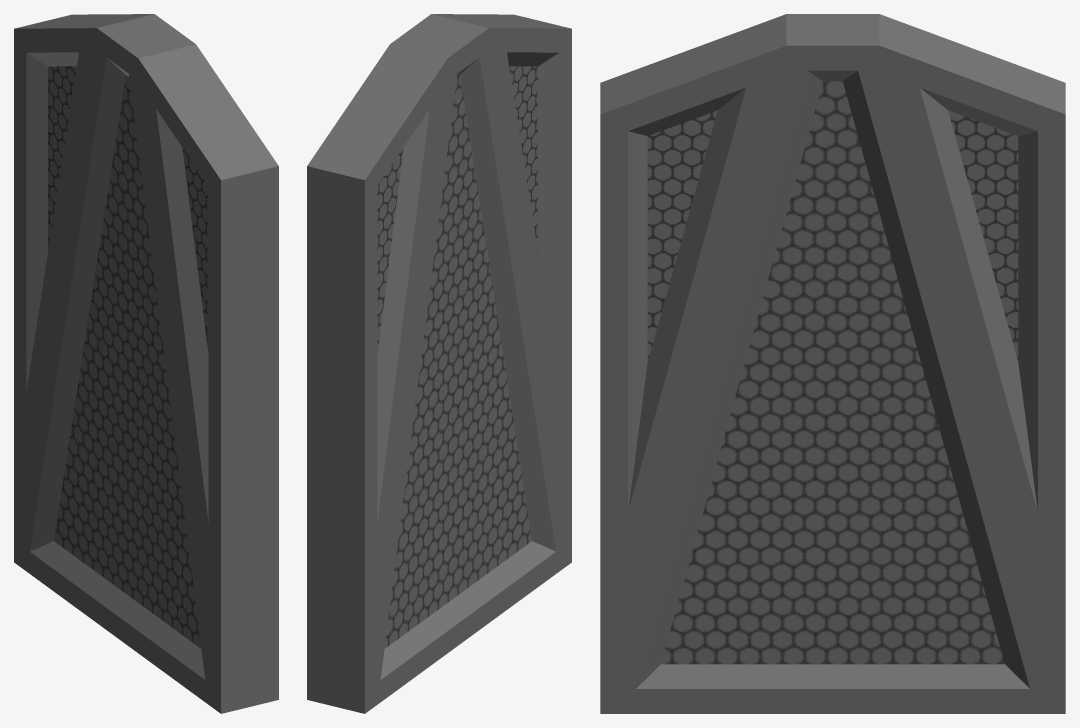
The model's file is SM_B3_Wall_SM_B3_D.fbx.
The picture shows the model from 3 angles, left to right: view 1: azimuth 30°, elevation 25°; view 2: azimuth 150°, elevation 25°; view 3: azimuth 270°, elevation 25°; orthographic projection. The views are drawn at different scales.
Parts seen in each view (by area): view 1: SM_B3_Wall_SM_B3_D; view 2: SM_B3_Wall_SM_B3_D; view 3: SM_B3_Wall_SM_B3_D.
Boxes of the visible parts, x1,y1,x2,y2 form: SM_B3_Wall_SM_B3_D: [14, 14, 278, 713]; SM_B3_Wall_SM_B3_D: [307, 14, 571, 713]; SM_B3_Wall_SM_B3_D: [600, 14, 1065, 713].
Size of the model in its own units: 27.59 by 171 by 271.
Materials: 1 (1 with a texture image).
